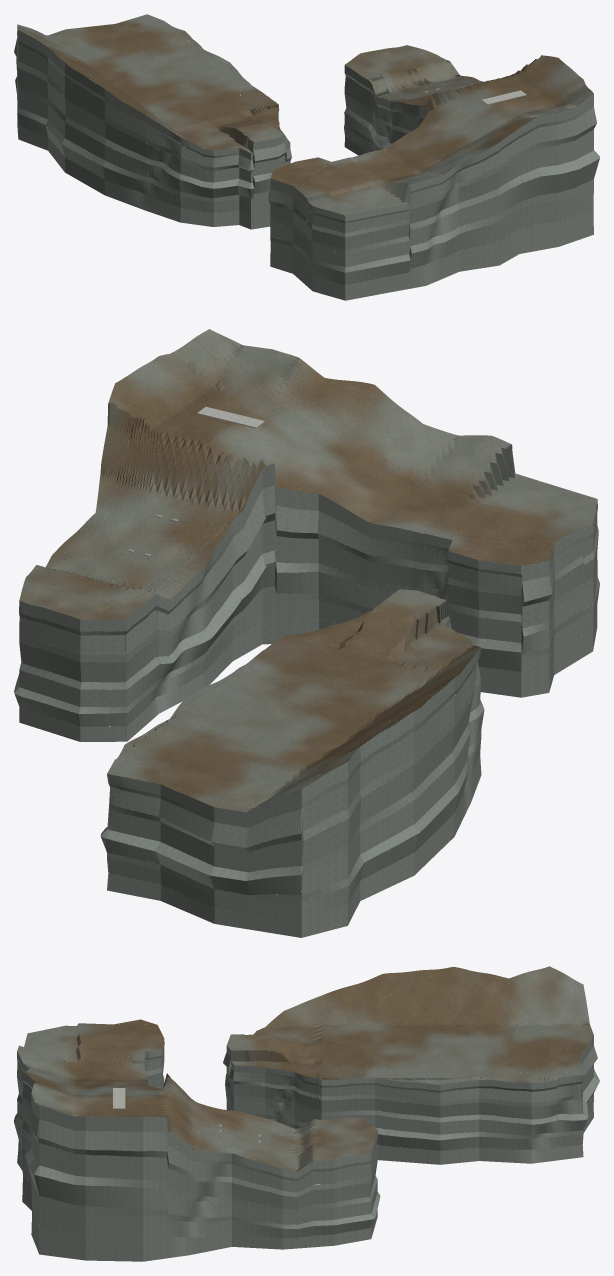
The model's file is ContinuousGorgeSource.glb.
3 renders of one model, top to bottom at view 1: azimuth 30°, elevation 25°; view 2: azimuth 150°, elevation 25°; view 3: azimuth 270°, elevation 25°, orthographic. The views are drawn at different scales.
Parts seen in each view (by area): view 1: broken-road-gorge-landform-configuration; view 2: broken-road-gorge-landform-configuration; view 3: broken-road-gorge-landform-configuration.
Part boxes in pixels (bbox=[...]): broken-road-gorge-landform-configuration: bbox=[14, 14, 599, 300]; broken-road-gorge-landform-configuration: bbox=[14, 329, 599, 937]; broken-road-gorge-landform-configuration: bbox=[14, 966, 599, 1261].
Bounding box in the file's own units: 33.03 × 12.63 × 45.
4 materials, 4 textured.
